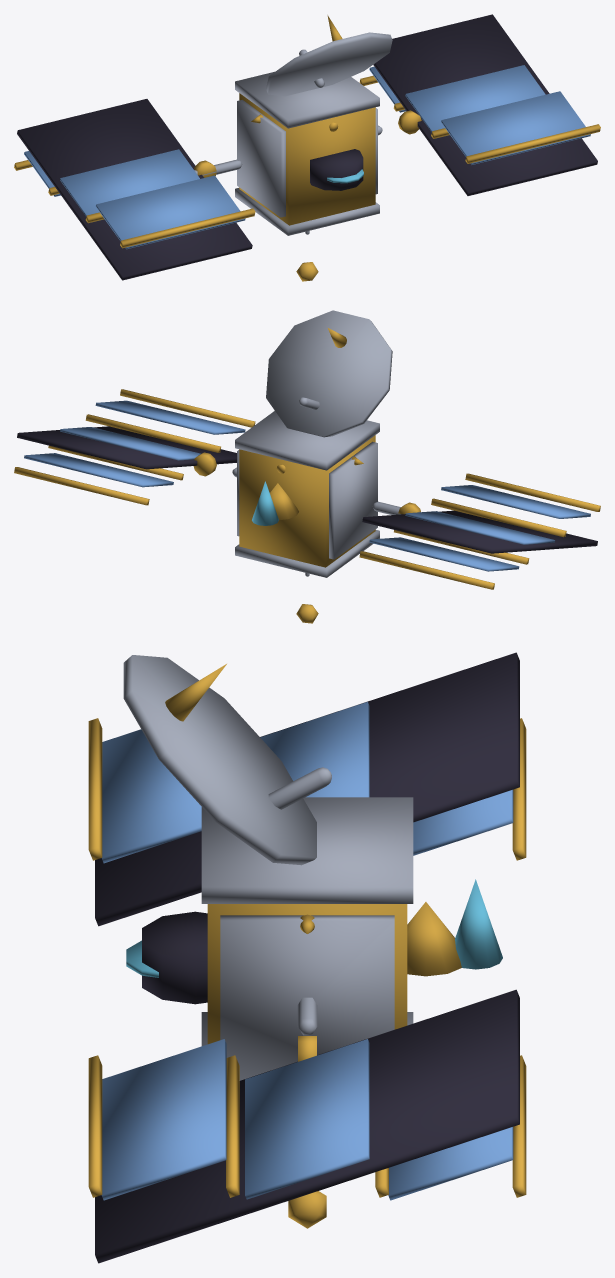
File: satellite.glb
3 views of the same model, one above another, from view 1: azimuth 30°, elevation 25°; view 2: azimuth 150°, elevation 25°; view 3: azimuth 270°, elevation 25° (orthographic). The views are drawn at different scales.
Parts seen in each view (by area): view 1: satellite; view 2: satellite; view 3: satellite.
Boxes of the visible parts, <box> form: satellite: <box>14,14,600,281</box>; satellite: <box>14,310,600,623</box>; satellite: <box>88,652,526,1263</box>.
Size of the model in its own units: 8.85 by 4.96 by 3.51.
